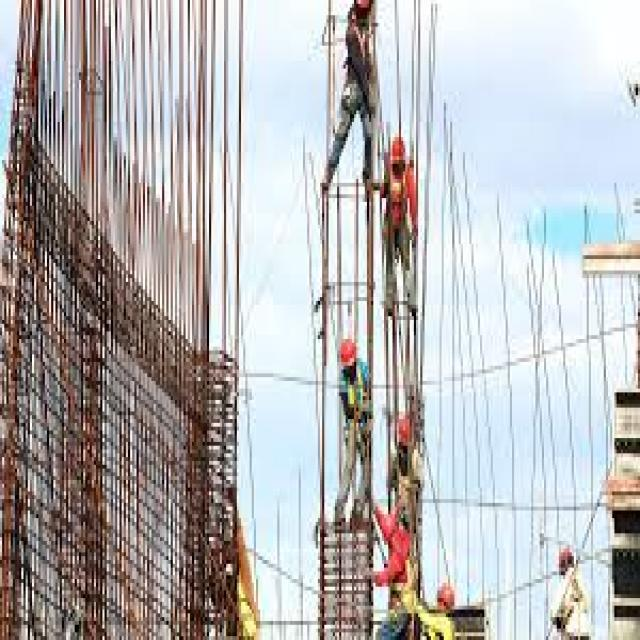Reflective-Jacket: (337, 8, 384, 122)
Safety-Helmet: (432, 575, 459, 612), (386, 130, 410, 168), (335, 332, 358, 369), (555, 541, 580, 575)
